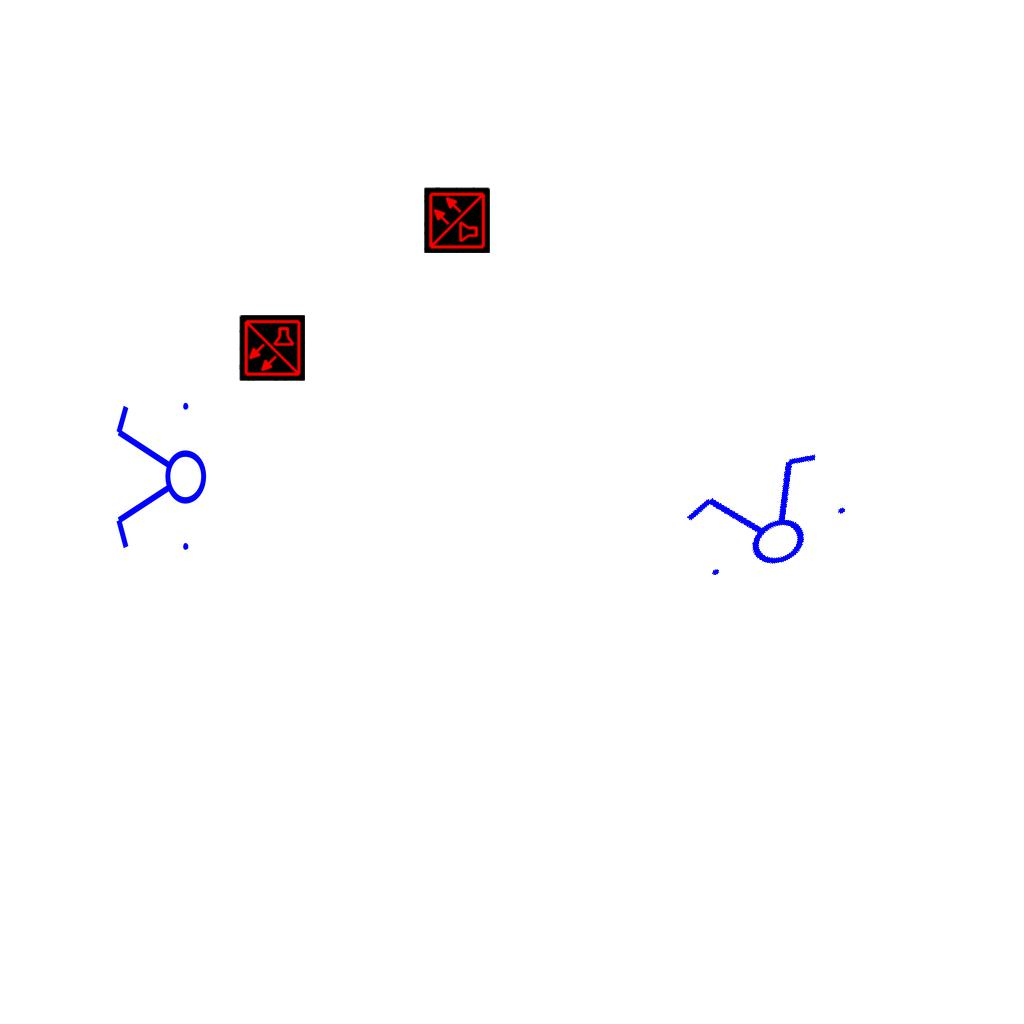OKW_Multisensormelder_(Kombination_optischer_Rauch-Kahlenmonoxid_Waerme-Melder): (424, 187, 490, 253), (239, 315, 305, 381)
Serienschalter: (669, 439, 863, 599), (112, 394, 208, 562)
